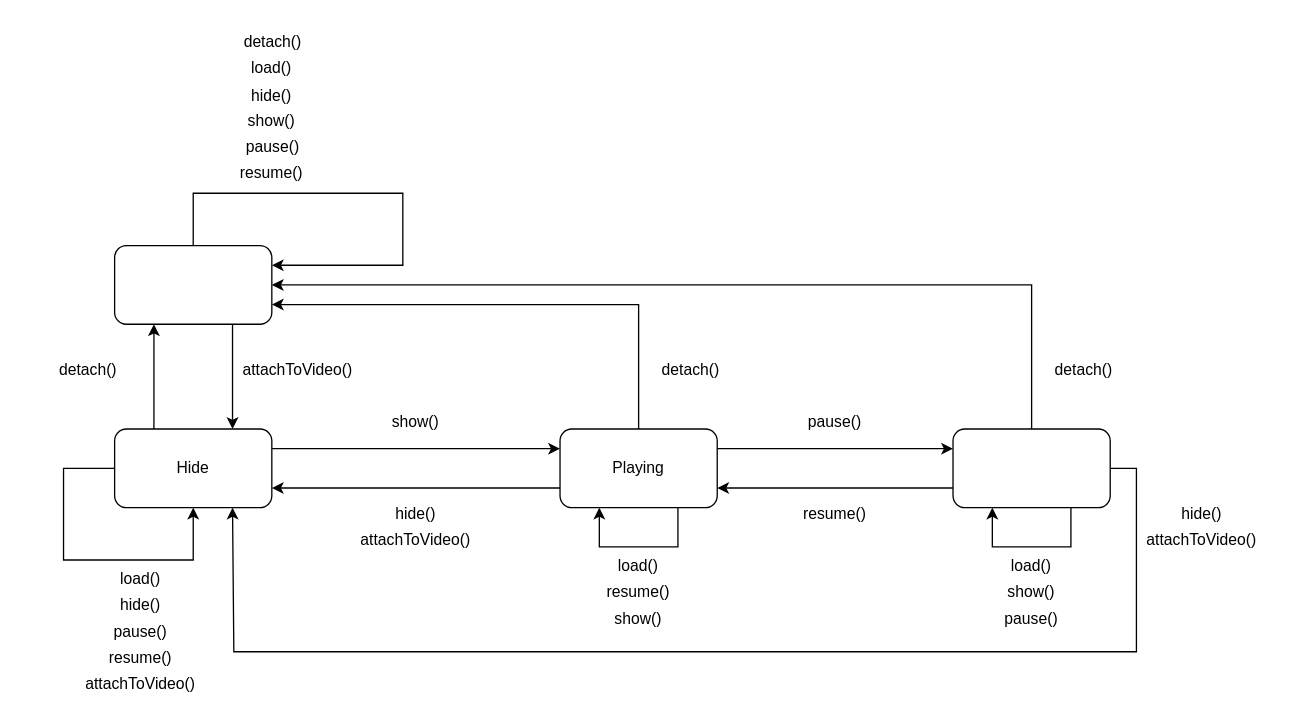
This 1289x726 diagram has some shape labels left out. Each missing label, with the centre of its shape:
Empty: [192,284]
Paused: [1031,468]
